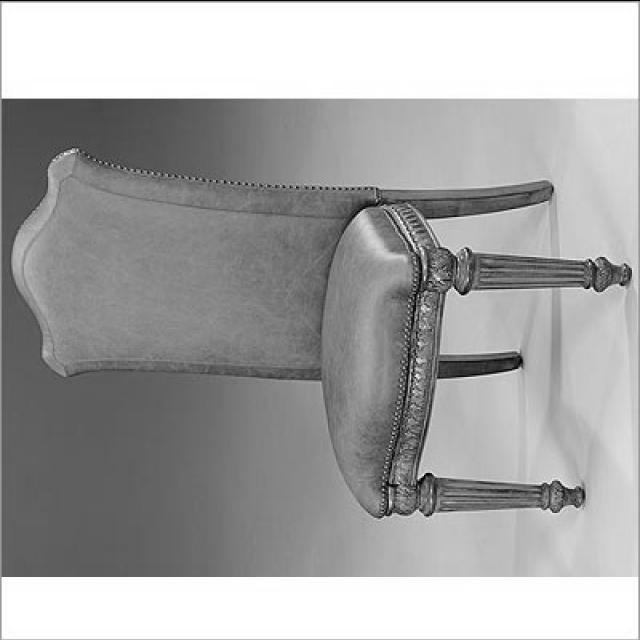chair: (11, 146, 627, 520)
